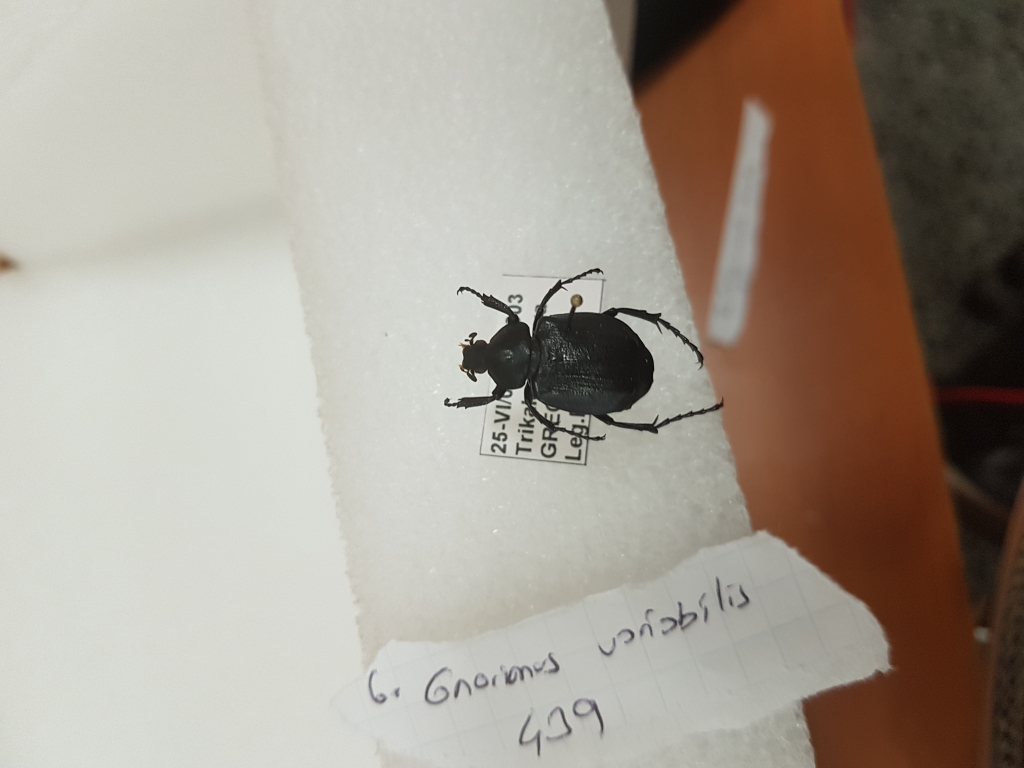Gnorimus_variabilis: (440, 265, 732, 453)
